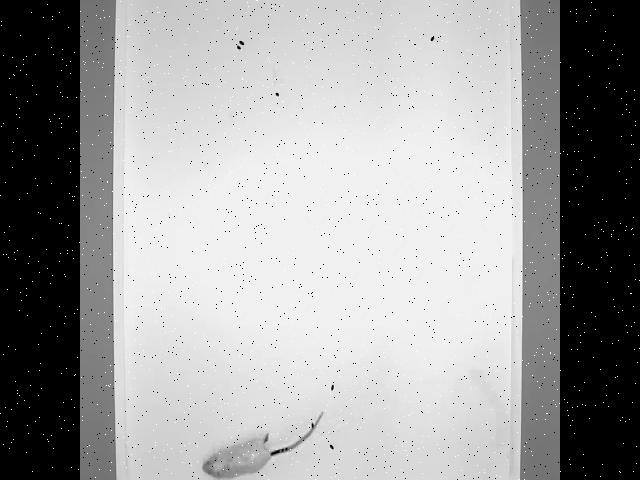Tikus: (198, 397, 329, 480)
